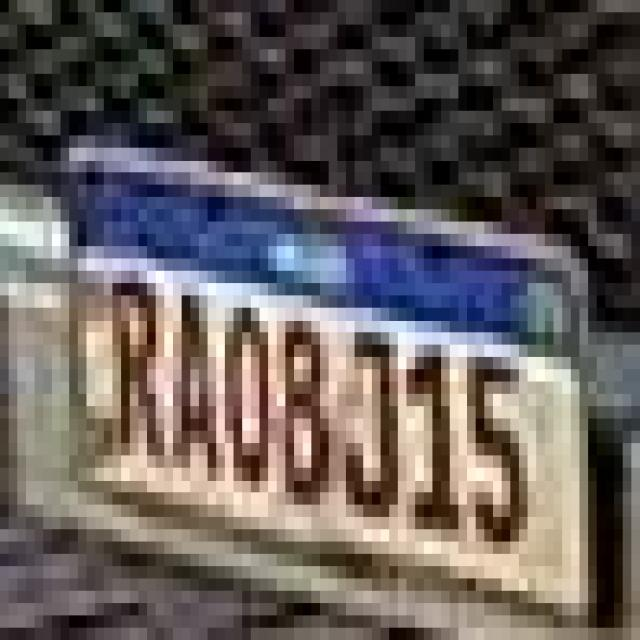1: (404, 330, 460, 544)
5: (468, 338, 534, 561)
8: (275, 303, 335, 512)
A: (168, 280, 222, 485)
J: (339, 317, 399, 527)
O: (219, 296, 277, 499)
R: (108, 262, 168, 474)
